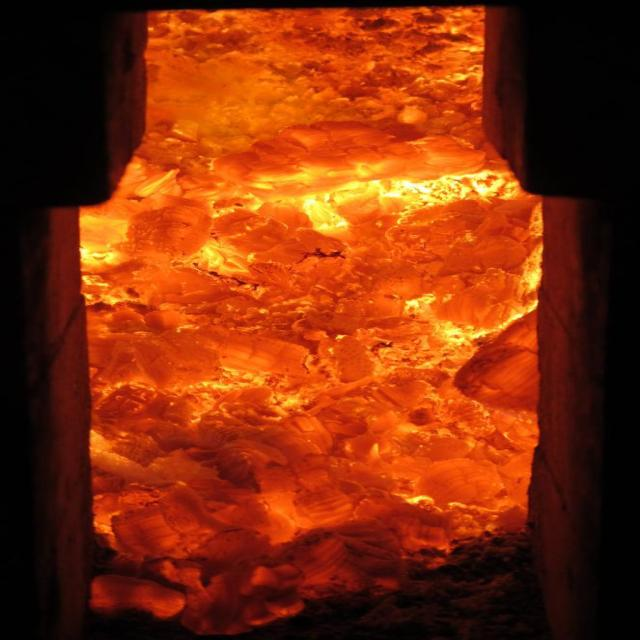Fire: (59, 2, 542, 628)
